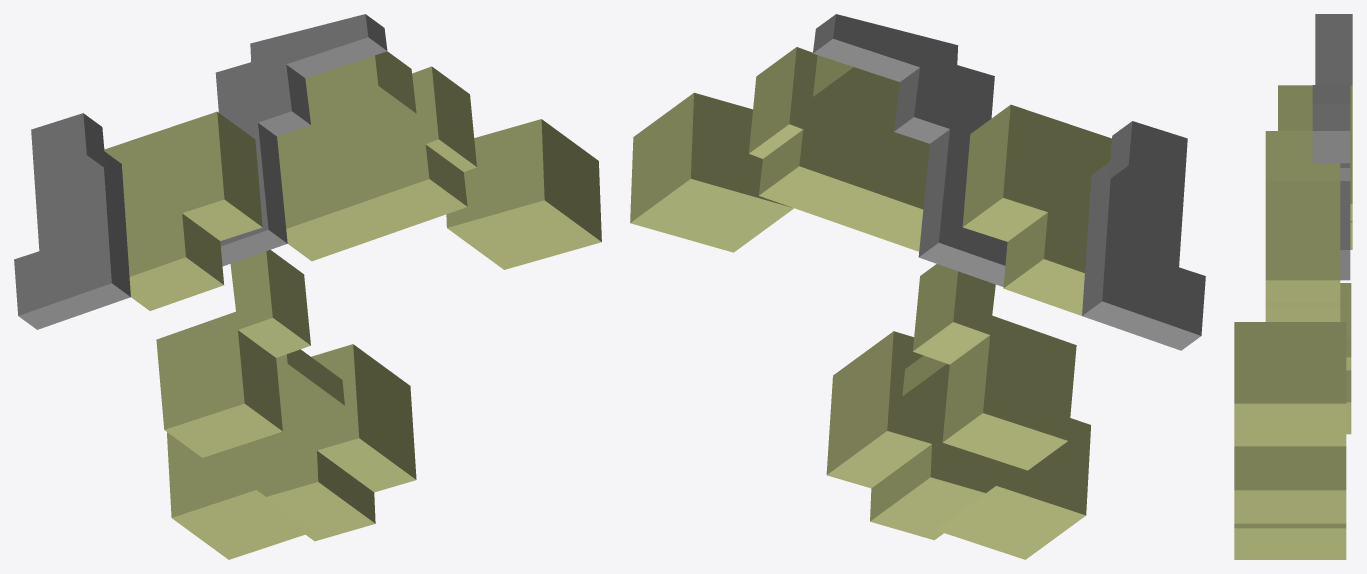
3 renders of one model, left to right at view 1: azimuth 30°, elevation 25°; view 2: azimuth 150°, elevation 25°; view 3: azimuth 270°, elevation 25°, orthographic. The views are drawn at different scales.
Parts seen in each view (by area): view 1: 0_1_0_0_1_0_0_2_2; view 2: 0_1_0_0_1_0_0_2_2; view 3: 0_1_0_0_1_0_0_2_2.
Boxes of the visible parts, left/top/right/bottom form: 0_1_0_0_1_0_0_2_2: left=14, top=14, right=601, bottom=559; 0_1_0_0_1_0_0_2_2: left=630, top=14, right=1205, bottom=559; 0_1_0_0_1_0_0_2_2: left=1234, top=14, right=1352, bottom=559.
Size of the model in its own units: 47.82 by 39.62 by 9.5.
